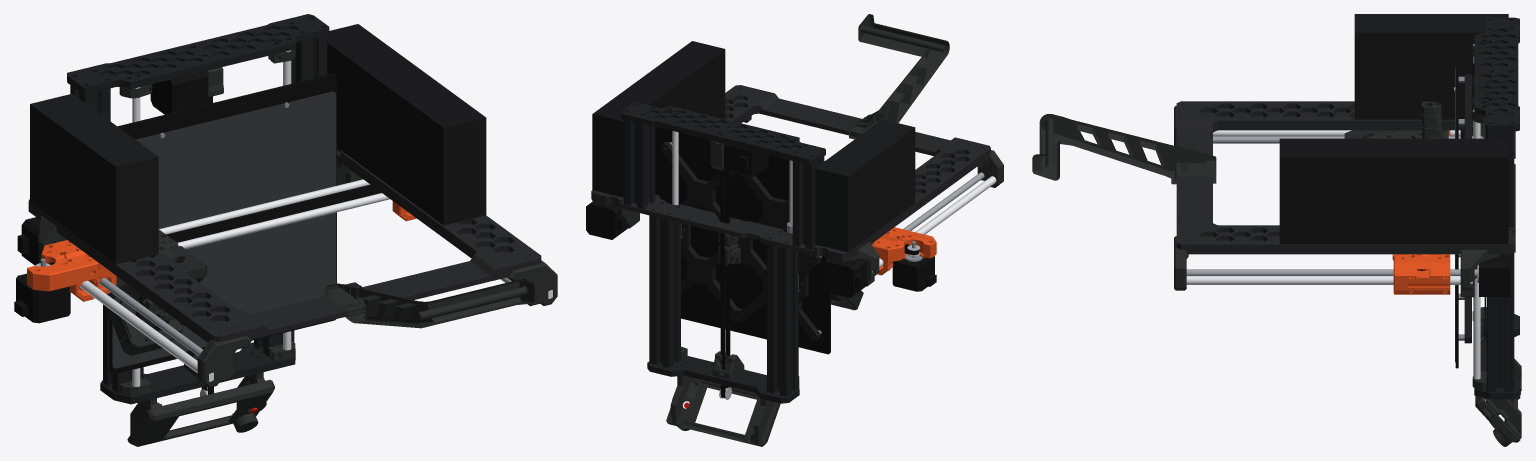
3 views of the same model, side by side, from view 1: azimuth 30°, elevation 25°; view 2: azimuth 150°, elevation 25°; view 3: azimuth 270°, elevation 25° (orthographic). The views are drawn at different scales.
Parts seen in each view (by area): view 1: sheet, psu, frame, electronics-box, y-rear-plate, spool-holder, heatbed, xlcd-cover, x-end-motor, y-front-plate, x-belt, x-rod-top (+15 smaller); view 2: heatbed, frame, electronics-box, psu, y-carriage, y-extrusion-front-r, y-extrusion-front-l, y-rear-plate, spool-holder, y-extrusion-rear-r, xlcd-cover, y-front-plate (+15 smaller); view 3: psu, frame, electronics-box, spool-holder, y-rear-plate, y-extrusion-front-r, z-rod-right, x-end-idler, z-leadscrew-right, z-motor-right-motor, z-rod-left, z-bottom-right (+10 smaller).
Boxes of the visible parts, <box> form: sheet: <box>112,91,336,368</box>; psu: <box>327,24,486,225</box>; frame: <box>28,147,541,342</box>; electronics-box: <box>30,93,158,264</box>; y-rear-plate: <box>67,14,329,94</box>; spool-holder: <box>325,279,534,328</box>; heatbed: <box>109,73,336,374</box>; xlcd-cover: <box>127,380,274,446</box>; x-end-motor: <box>27,240,116,301</box>; y-front-plate: <box>100,342,295,404</box>; x-belt: <box>47,184,381,264</box>; x-rod-top: <box>177,193,389,248</box>; heatbed: <box>655,126,830,354</box>; frame: <box>591,85,990,262</box>; electronics-box: <box>815,119,915,252</box>; psu: <box>592,41,725,197</box>; y-carriage: <box>660,141,820,341</box>; y-extrusion-front-r: <box>649,215,680,367</box>; y-extrusion-front-l: <box>767,244,798,396</box>; y-rear-plate: <box>621,102,825,164</box>; spool-holder: <box>849,14,949,139</box>; y-extrusion-rear-r: <box>624,120,655,208</box>; xlcd-cover: <box>666,378,780,446</box>; y-front-plate: <box>647,356,799,403</box>; psu: <box>1279,138,1508,244</box>; frame: <box>1176,101,1515,254</box>; electronics-box: <box>1354,14,1508,119</box>; spool-holder: <box>1032,114,1216,184</box>; y-rear-plate: <box>1474,17,1519,131</box>; y-extrusion-front-r: <box>1486,253,1514,391</box>; z-rod-right: <box>1186,276,1472,284</box>; x-end-idler: <box>1392,254,1450,294</box>; z-leadscrew-right: <box>1186,269,1477,276</box>; z-motor-right-motor: <box>1479,254,1510,296</box>; z-rod-left: <box>1213,130,1460,136</box>; z-bottom-right: <box>1460,249,1499,297</box>.
Bounding box in the file's own units: 458 × 425 × 534.
